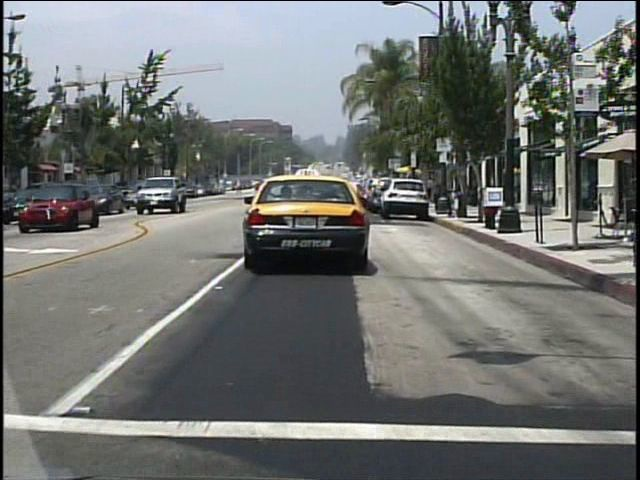person: (425, 176, 432, 199)
